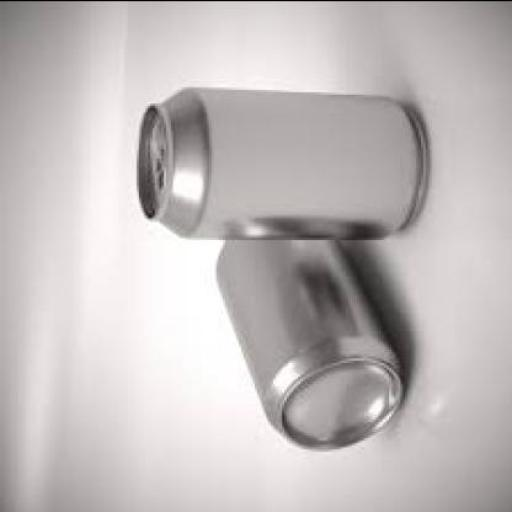metal: (132, 88, 426, 238), (216, 244, 401, 450)
